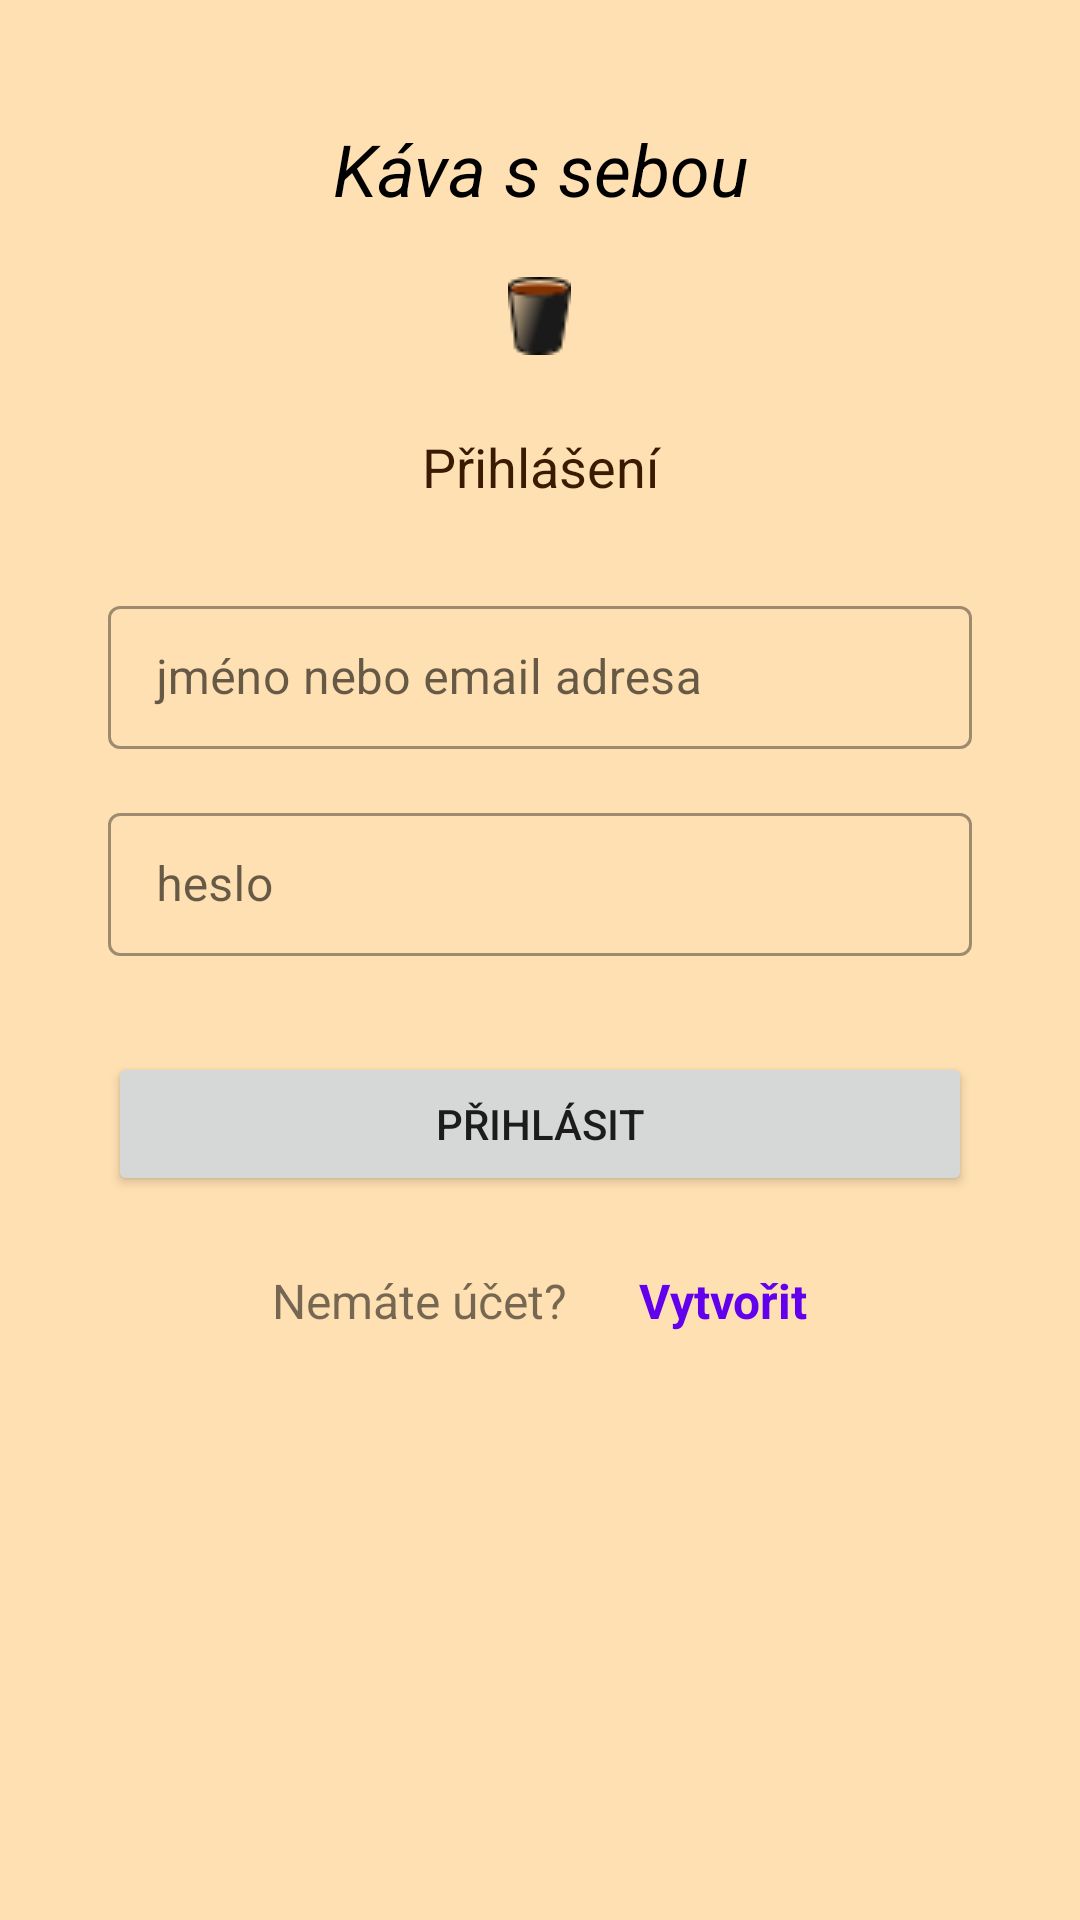

Icons on this 1080w x 1920h Android screen, each with the point to tap as [x,y]:
cup basic: [539,316]
